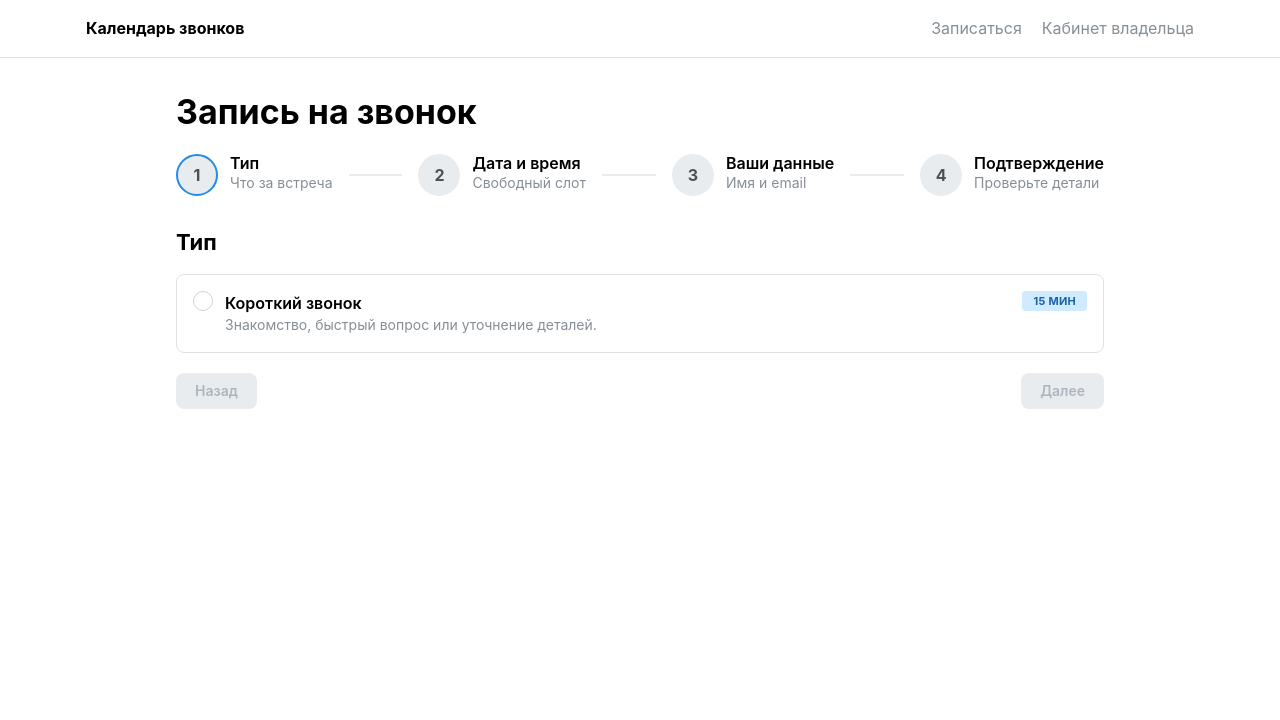
Test: шаг 2 «Дата и время» › показывает сообщение, когда на день не осталось свободных слотов
The width and height of the screenshot is (1280, 720).
Click the radio button labelled "Короткий звонок" at (293, 303), box 176,274 -> 1104,353
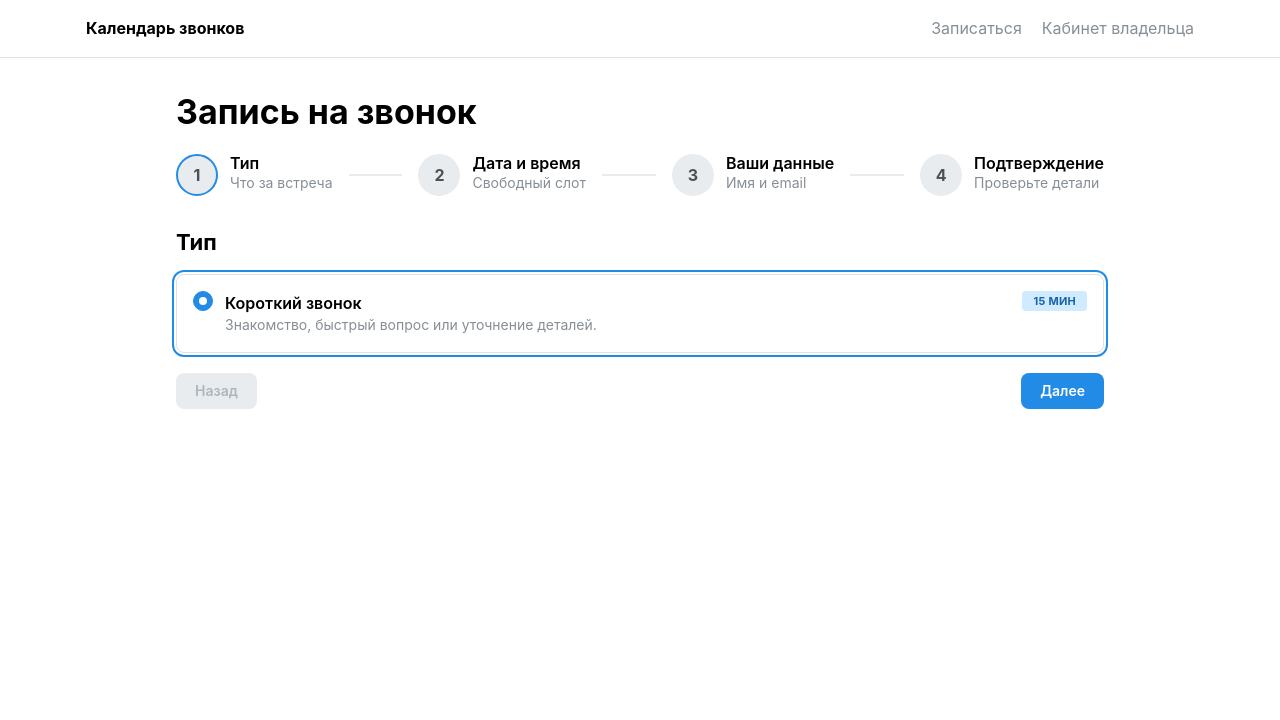
Click the button "Далее" at (1063, 391), box 1021,373 -> 1104,409
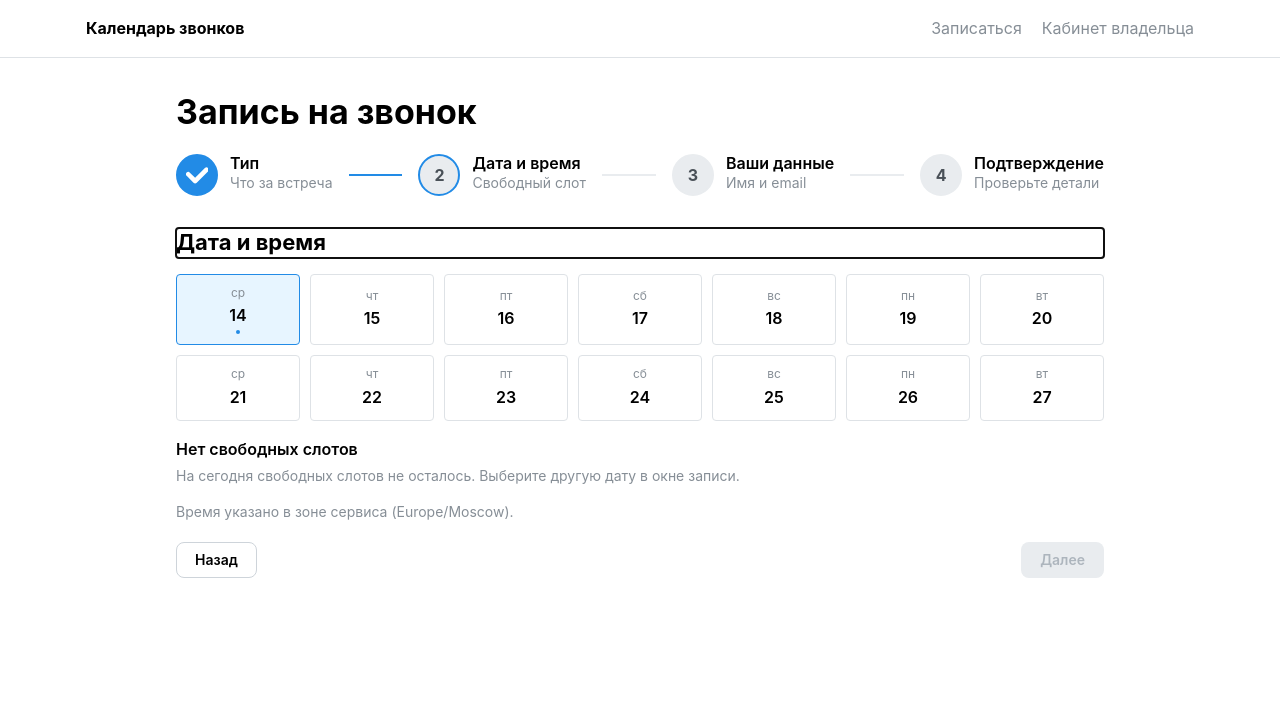
expect the text "Нет свободных слотов" is shown: met, box 176,439 -> 358,459
expect the text "На сегодня свободных слотов не осталось. Выберите другую дату в окне записи." is shown: met, box 176,467 -> 740,484
